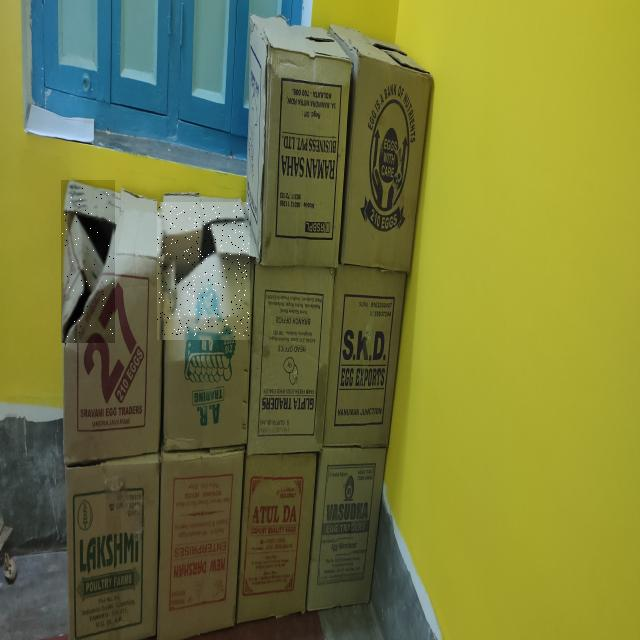squeeze: (157, 202, 249, 339), (62, 180, 114, 343)
